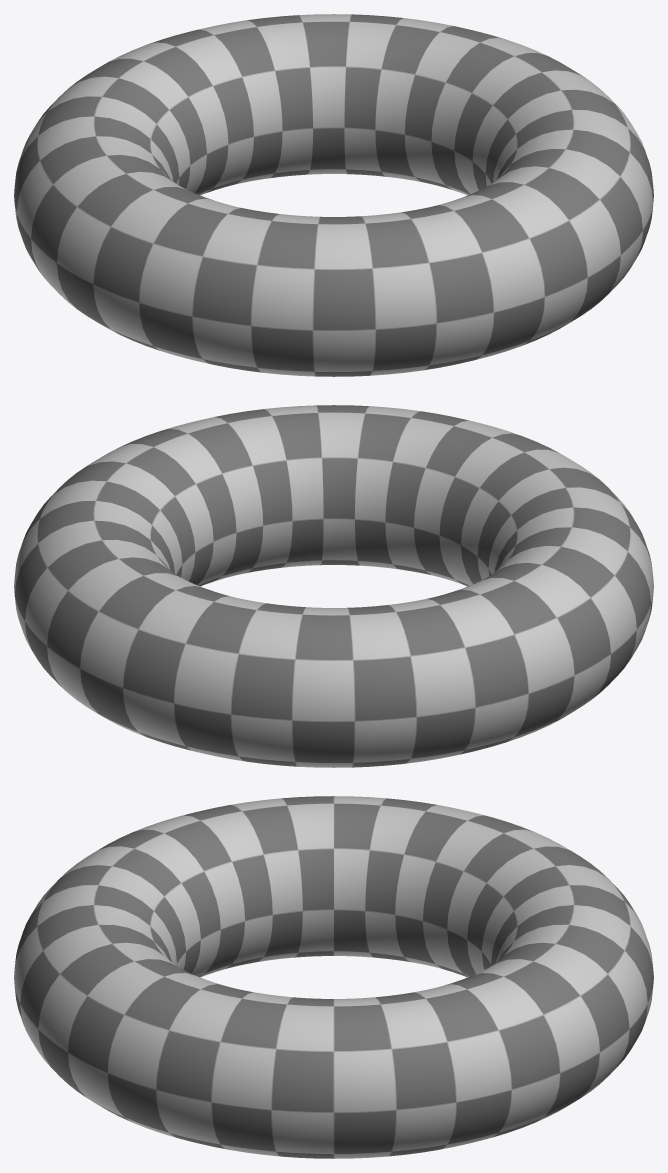
3 renders of one model, top to bottom at view 1: azimuth 30°, elevation 25°; view 2: azimuth 150°, elevation 25°; view 3: azimuth 270°, elevation 25°, orthographic.
Visible parts, largest first — view 1: test-shape; view 2: test-shape; view 3: test-shape.
Part boxes in pixels (bbox=[...]): test-shape: bbox=[14, 14, 653, 376]; test-shape: bbox=[14, 405, 653, 767]; test-shape: bbox=[14, 796, 653, 1158].
Bounding box in the file's own units: 0.32 × 0.08 × 0.32.
Materials: 1 (1 with a texture image).
